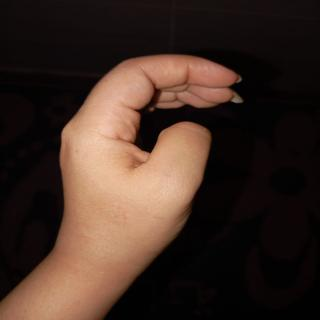JEEM: (48, 48, 236, 241)
